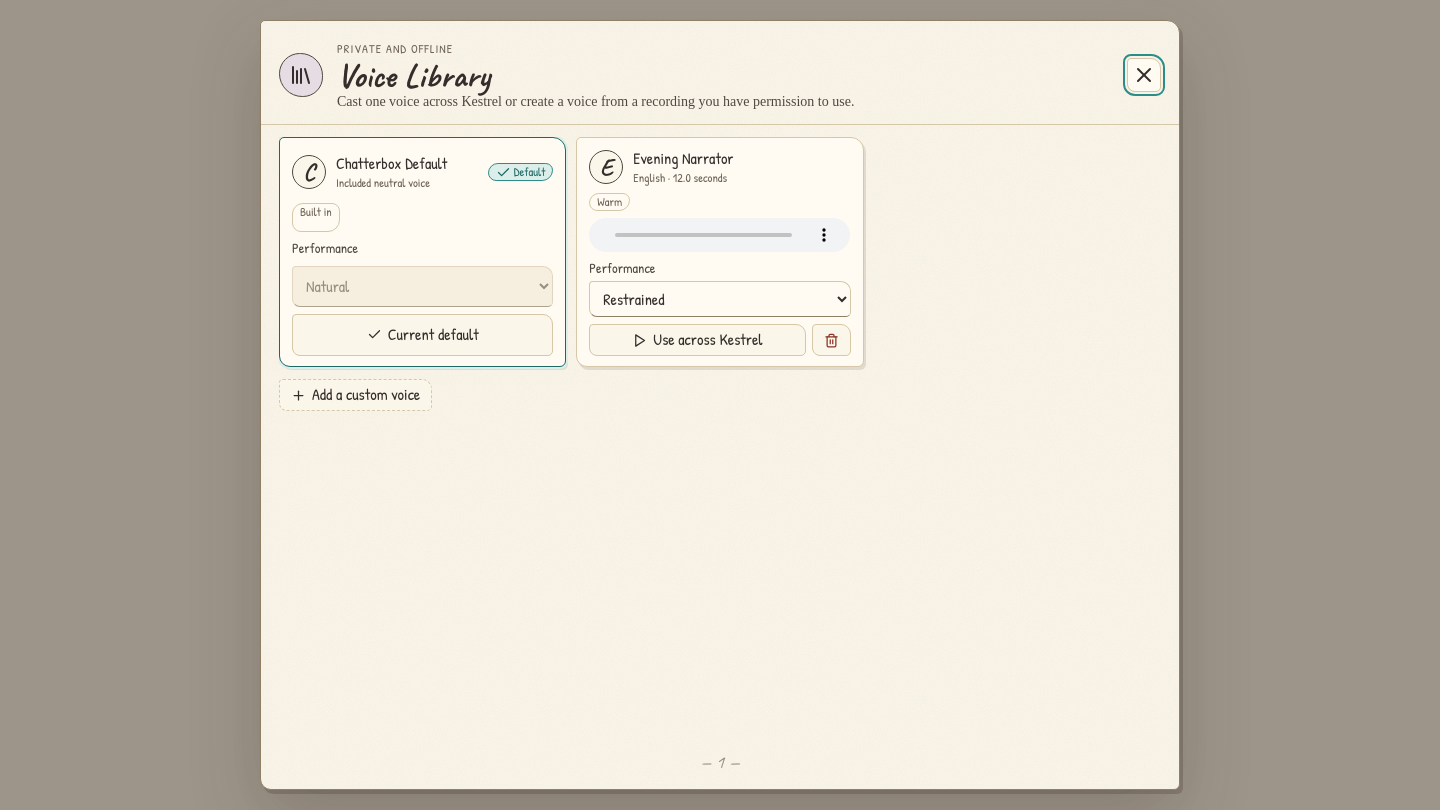
Test: Voice Library › renders format guidance helper in the custom voice creation panel
Click the button "Add a custom voice" at (356, 395), box [279,379,432,411]
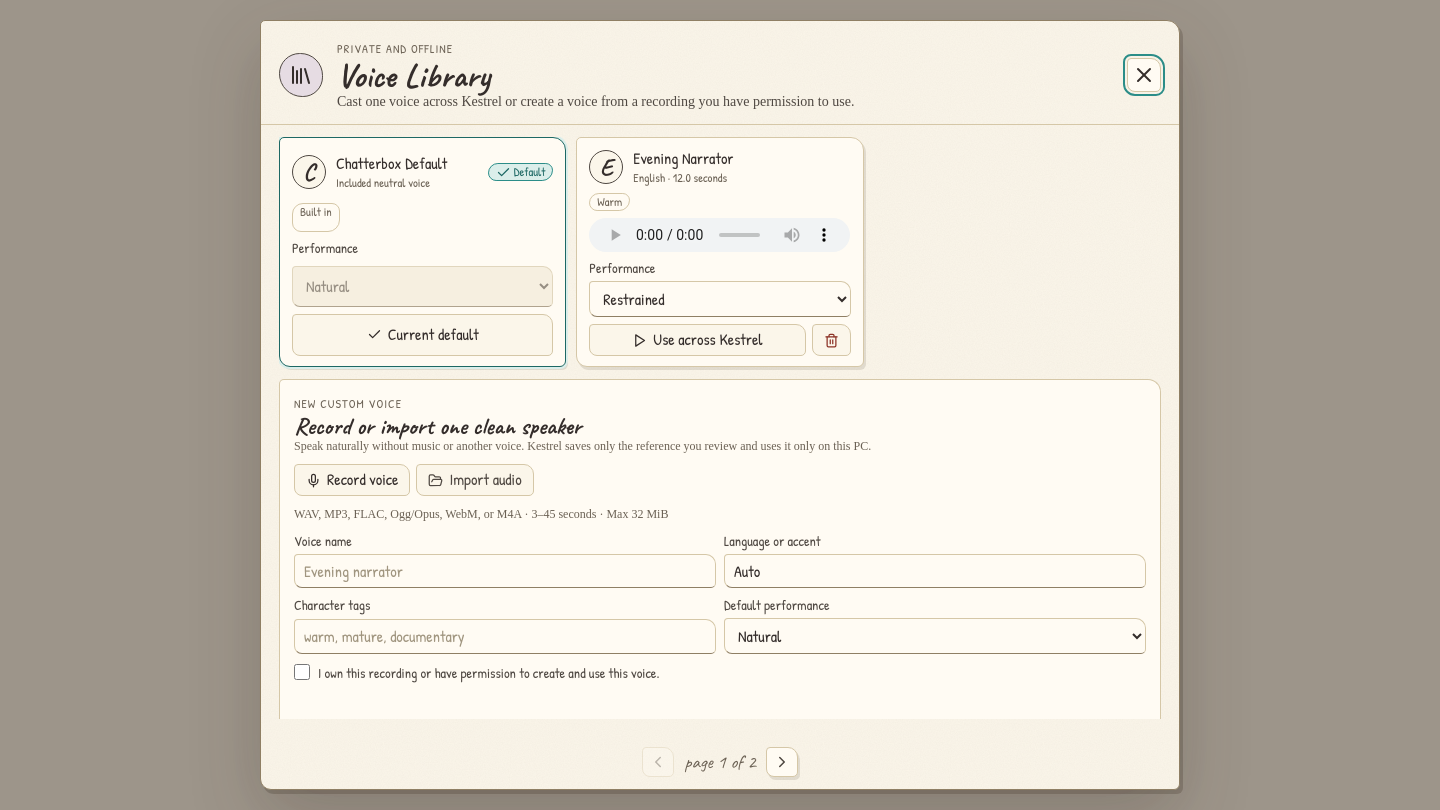
Check: the text "WAV, MP3, FLAC, Ogg/Opus, WebM, or M4A" is shown, box [294,507,668,521]
